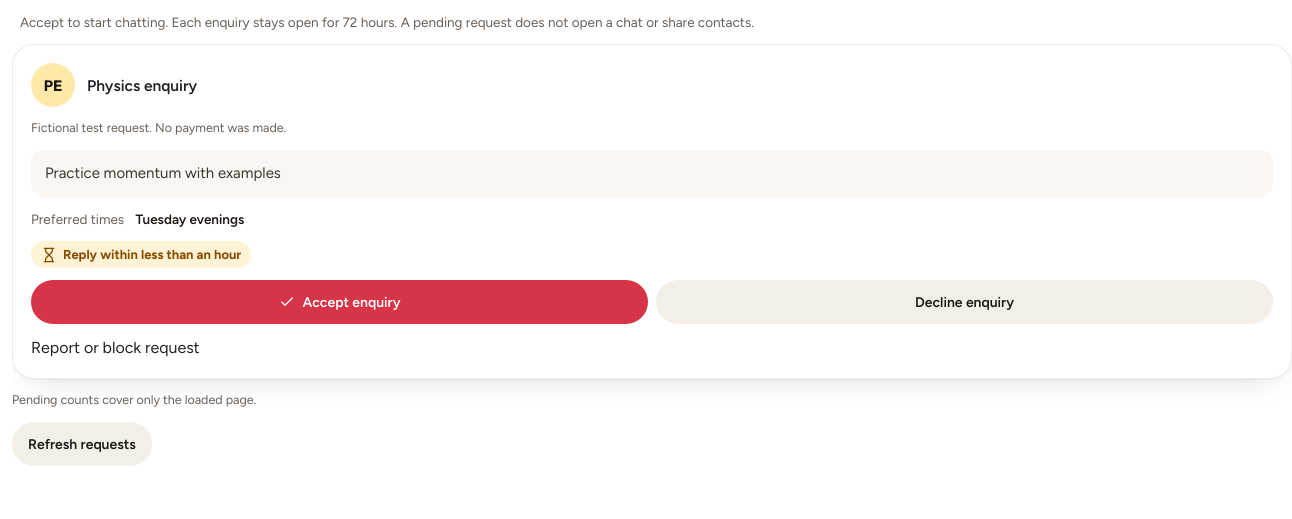
Test: refreshes a stale decision without claiming success or creating a conversation
Expected: the heading "Physics enquiry" is shown, [87, 76, 197, 95]
Step 1. Click the button "Accept enquiry" → (340,302), box [31, 280, 648, 324]
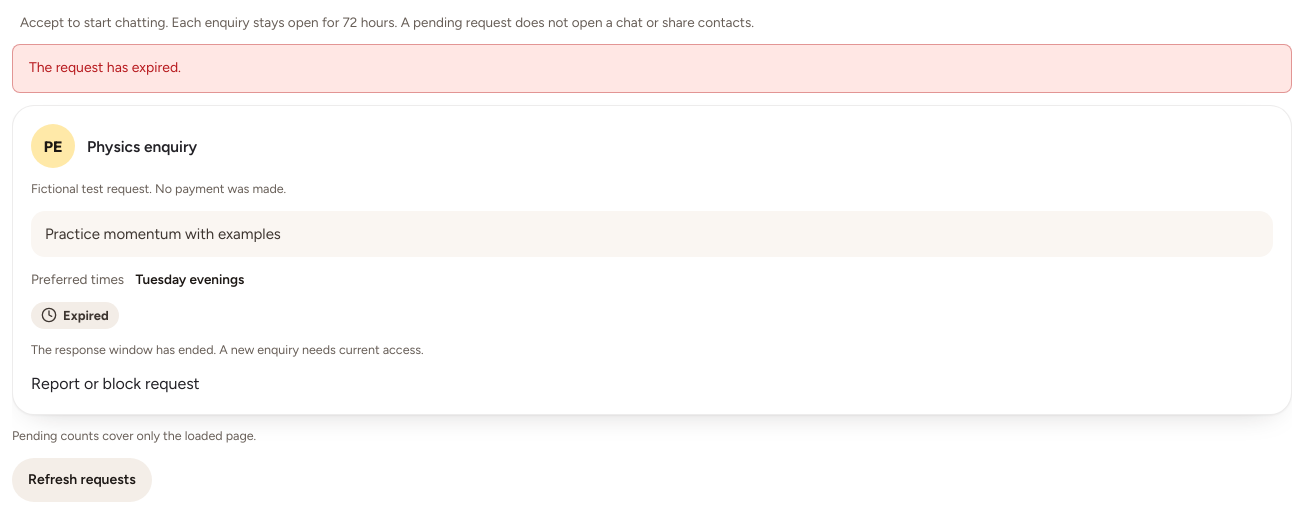
Expected: the message reads "The request has expired.", [29, 59, 181, 76]
Expected: the text "Expired" is shown, [31, 302, 119, 329]
Expected: the button "Accept enquiry" is gone
